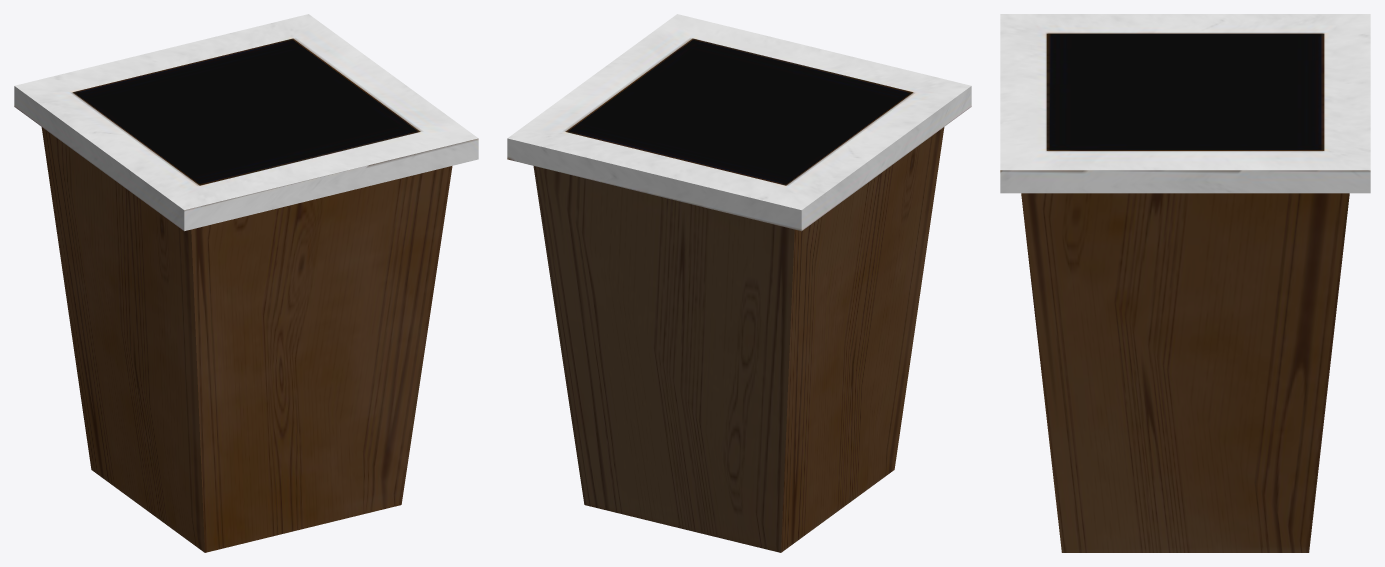
The model's file is Bin 04.fbx.
3 renders of one model, left to right at view 1: azimuth 30°, elevation 25°; view 2: azimuth 150°, elevation 25°; view 3: azimuth 270°, elevation 25°, orthographic. The views are drawn at different scales.
Parts seen in each view (by area): view 1: prop_Btr_bin_03; view 2: prop_Btr_bin_03; view 3: prop_Btr_bin_03.
Part boxes in pixels (bbox=[...]): prop_Btr_bin_03: bbox=[14, 14, 478, 552]; prop_Btr_bin_03: bbox=[507, 14, 971, 552]; prop_Btr_bin_03: bbox=[1000, 14, 1370, 552].
Size of the model in its own units: 0.2107 by 0.2567 by 0.2107.
